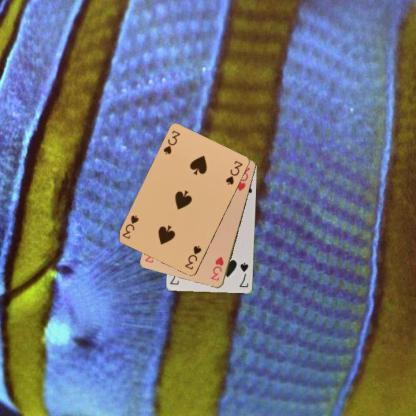3h: (208, 254, 224, 282)
3s: (182, 242, 203, 272), (160, 128, 182, 156)
7s: (237, 260, 249, 289)
